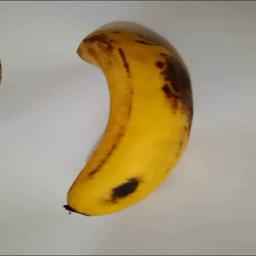Banana Semifresh: (58, 22, 197, 223)
